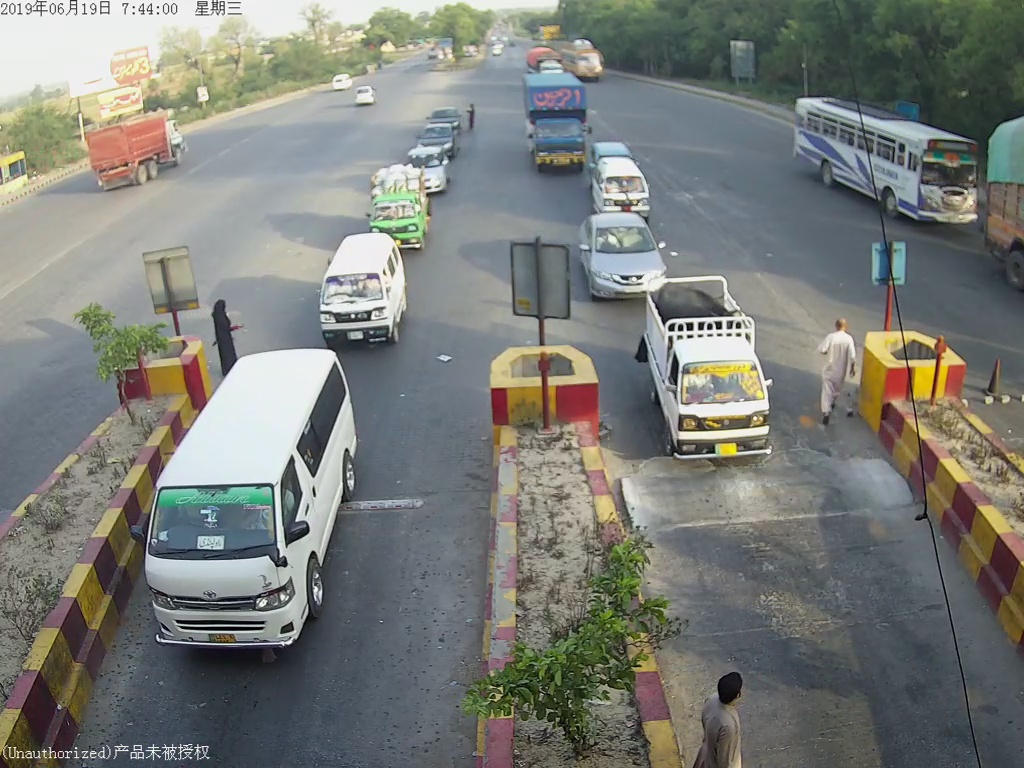Cat-1: (645, 290, 777, 468), (311, 241, 407, 337), (580, 217, 665, 292)
Cat-2: (140, 347, 360, 651), (518, 73, 593, 178)
